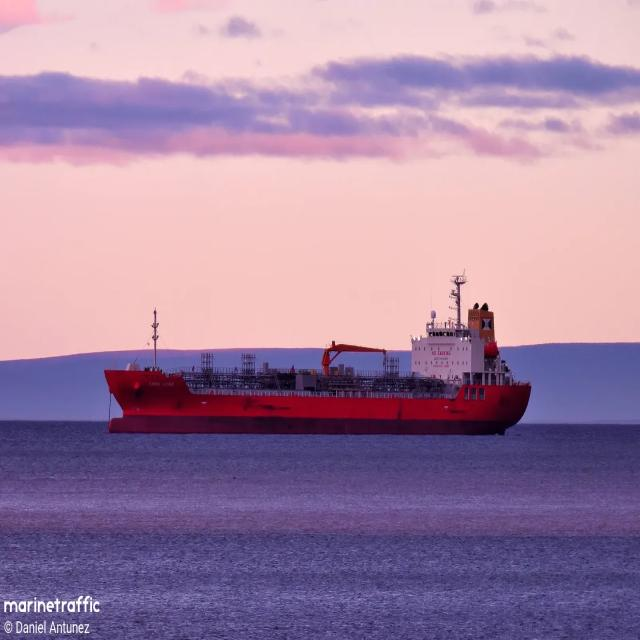Tanker: (105, 272, 531, 434)
